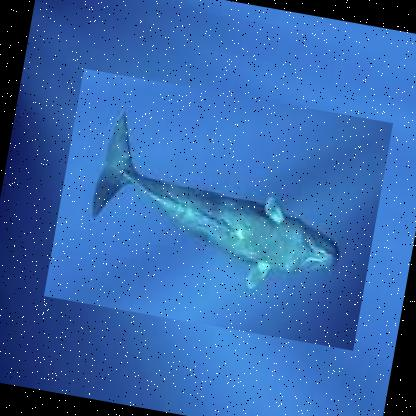sperm_whale: (41, 67, 392, 350)
